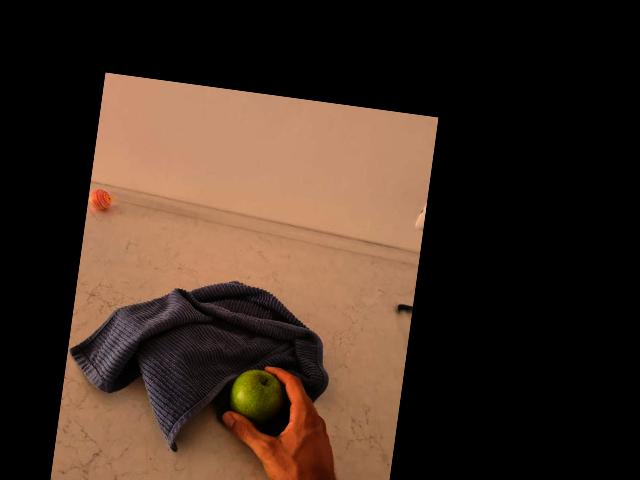apple: (229, 364, 287, 437)
